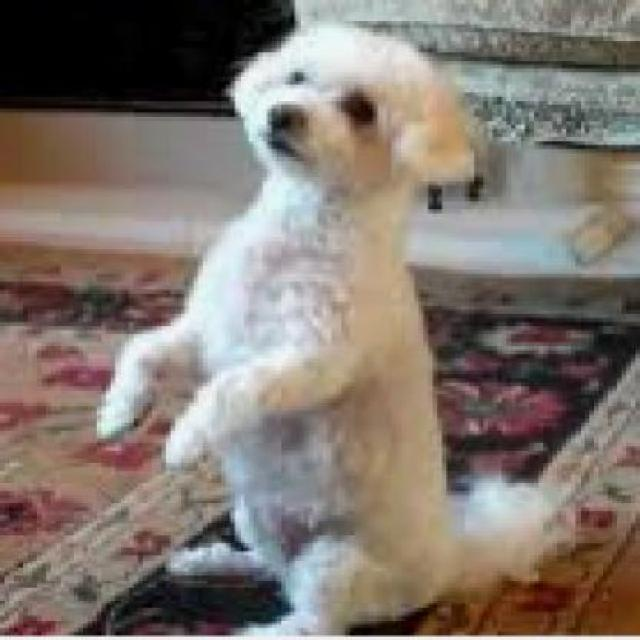Dog: (88, 20, 575, 635)
